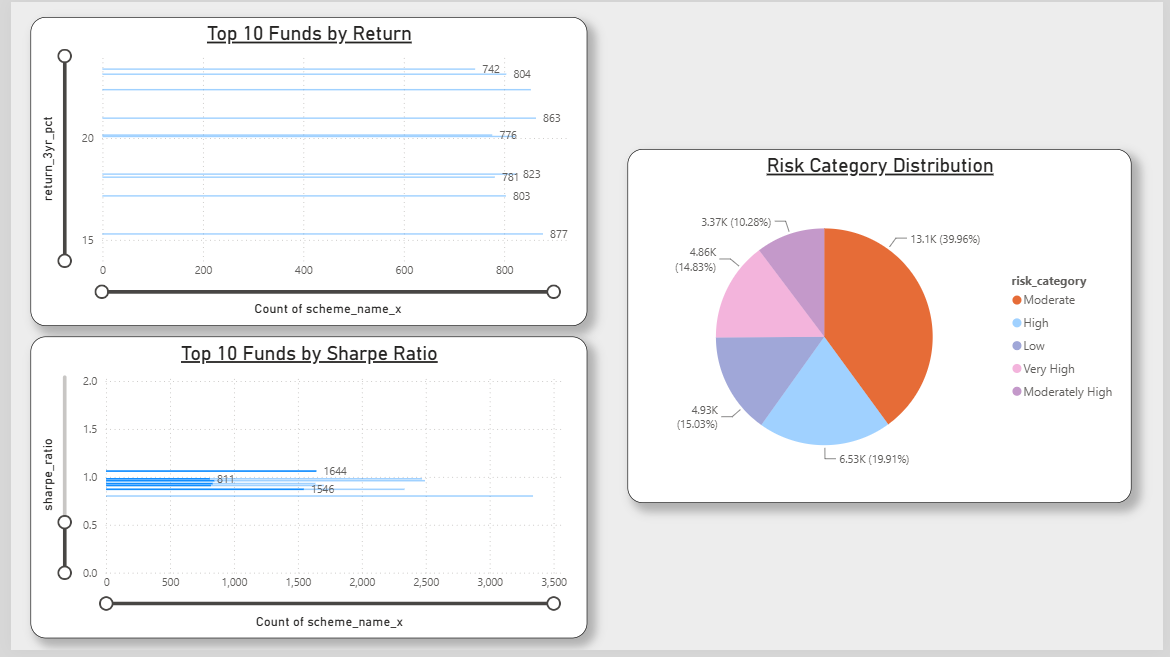

This screenshot's page, from the dashboard's own definition file:
{"tool":"powerbi","page":{"name":"Fund  Insights","canvas":[1280,720],"ordinal":1},"visuals":[{"type":"barChart","title":"Top 10 Funds by Return","fields":{"Y":["CountNonNull(dashboard_dataset.scheme_name_x)"],"Category":["dashboard_dataset.return_3yr_pct"]},"box":[21.7,16.7,618.3,343.3],"z":0},{"type":"barChart","title":"Top 10 Funds by Sharpe Ratio","fields":{"Category":["dashboard_dataset.sharpe_ratio"],"Y":["CountNonNull(dashboard_dataset.scheme_name_x)"]},"box":[21.7,371.7,618.3,335],"z":1},{"type":"pieChart","title":"Risk Category Distribution","fields":{"Category":["dashboard_dataset.risk_category"],"Y":["CountNonNull(dashboard_dataset.scheme_name_x)"]},"box":[685,163.3,560,393.3],"z":2}]}

Visuals, with their boxes in screenshot pixels (x1, y1, x2, y2), scaled from the page's 1280x720 canvas onto the 1170x657 screenshot:
"Top 10 Funds by Return" barChart: Rect(20, 15, 585, 328)
"Top 10 Funds by Sharpe Ratio" barChart: Rect(20, 339, 585, 645)
"Risk Category Distribution" pieChart: Rect(626, 149, 1138, 508)
